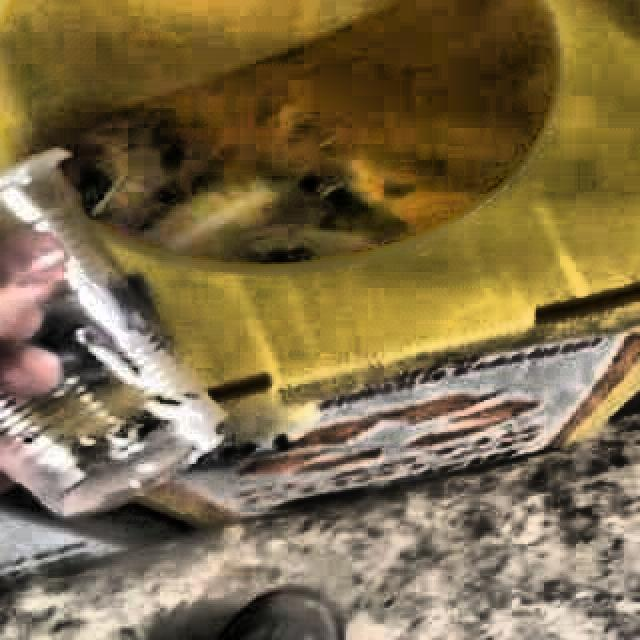plastic: (0, 150, 223, 519)
